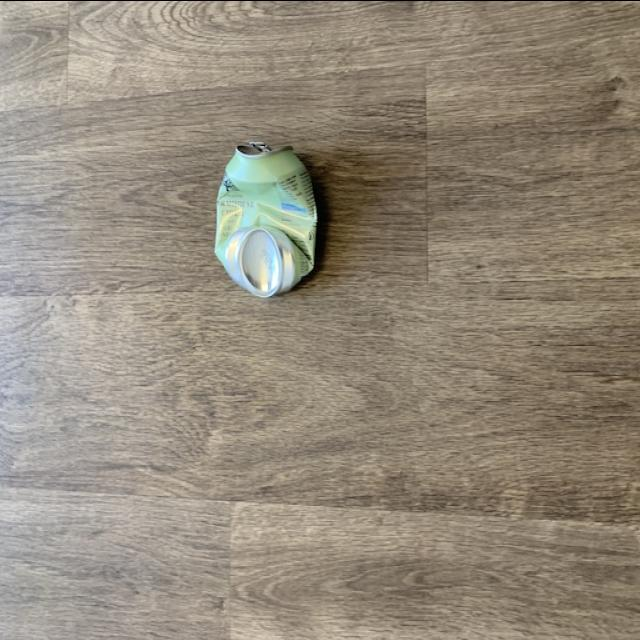Aluminum Can: (200, 112, 328, 312)
